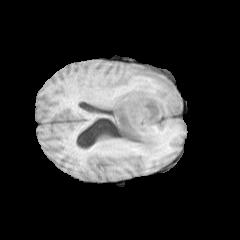glioma: (92, 66, 182, 162)
